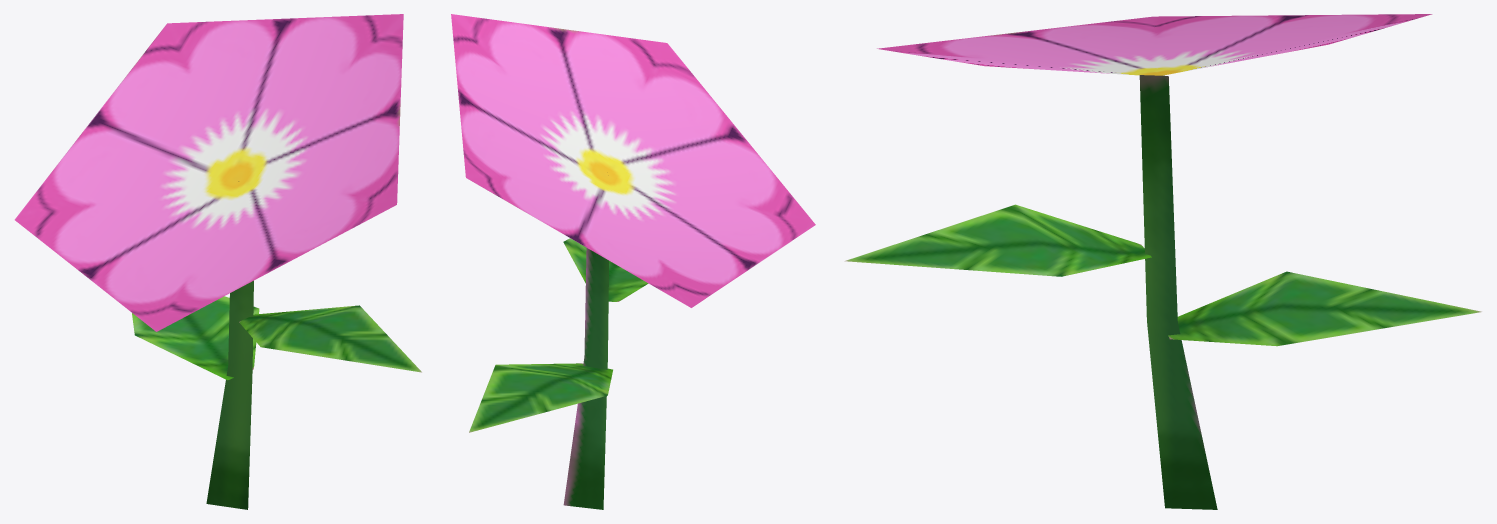
The model's file is hua_l2.fbx.
3 views of the same model, side by side, from view 1: azimuth 30°, elevation 25°; view 2: azimuth 150°, elevation 25°; view 3: azimuth 270°, elevation 25° (orthographic). The views are drawn at different scales.
Visible parts, largest first — view 1: hua_l2; view 2: hua_l2; view 3: hua_l2.
Boxes of the visible parts, bbox=[...] form: hua_l2: bbox=[14, 14, 421, 509]; hua_l2: bbox=[451, 14, 815, 509]; hua_l2: bbox=[844, 14, 1481, 509].
Size of the model in its own units: 0.4052 by 0.5593 by 0.5533.
